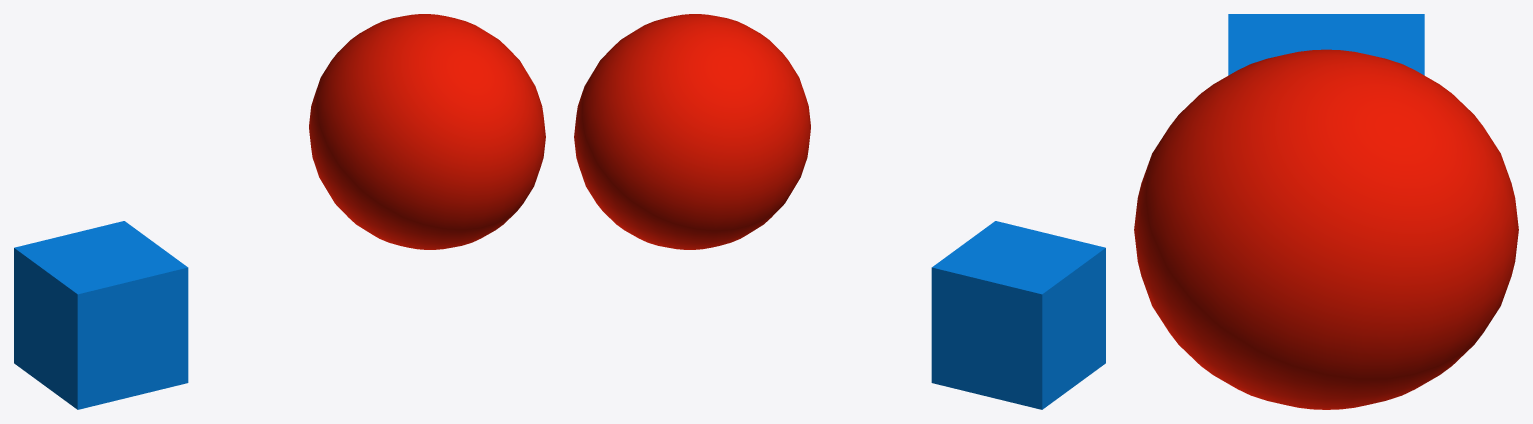
File: TestScene.glb
3 renders of one model, left to right at view 1: azimuth 30°, elevation 25°; view 2: azimuth 150°, elevation 25°; view 3: azimuth 270°, elevation 25°, orthographic. The views are drawn at different scales.
Visible parts, largest first — view 1: Sphere, Cube; view 2: Sphere, Cube; view 3: Sphere, Cube.
Boxes of the visible parts, x1,y1,x2,y2 form: Sphere: [309, 14, 545, 249]; Cube: [14, 221, 188, 409]; Sphere: [574, 14, 810, 249]; Cube: [931, 221, 1105, 409]; Sphere: [1134, 49, 1518, 409]; Cube: [1228, 14, 1424, 75].
Size of what is drawn, in the model's own units: 8.74 by 4.64 by 3.92.
